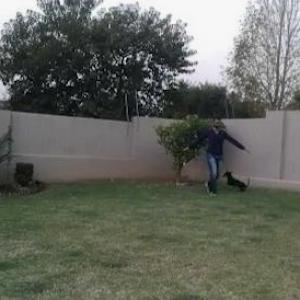land: (164, 105, 237, 203)
